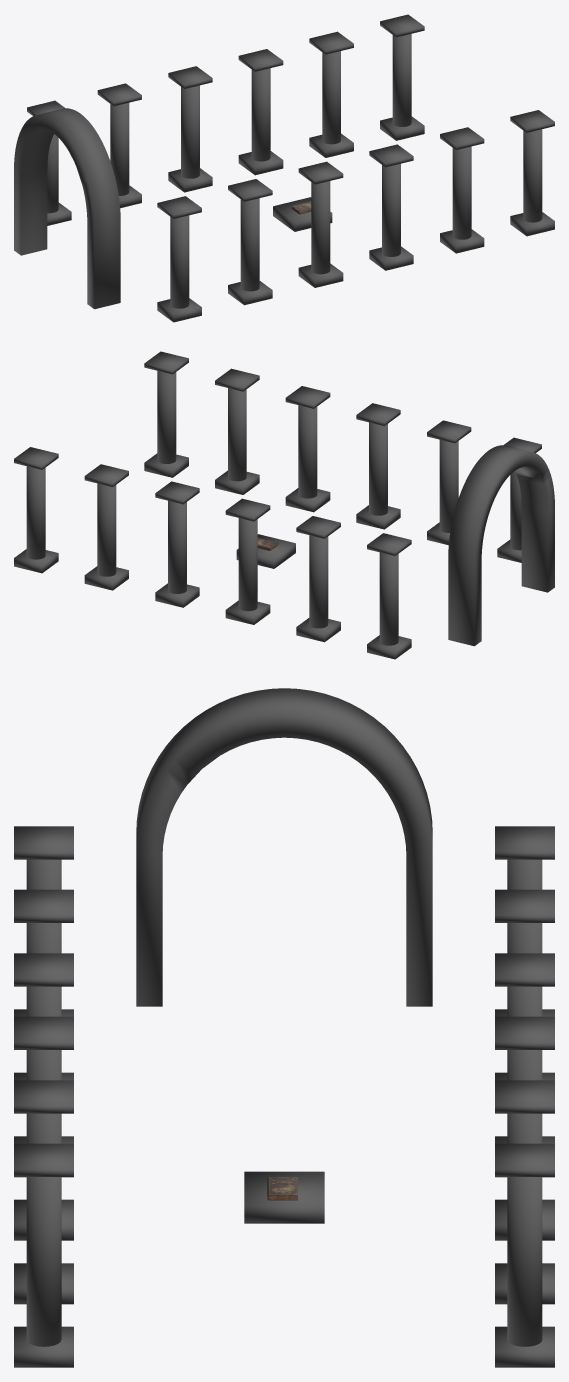
File: home_page.glb
3 views of the same model, one above another, from view 1: azimuth 30°, elevation 25°; view 2: azimuth 150°, elevation 25°; view 3: azimuth 270°, elevation 25° (orthographic). The views are drawn at different scales.
Parts seen in each view (by area): view 1: Cube.003; view 2: Cube.003; view 3: Cube.003.
Part boxes in pixels (box(x1,y1,x2,y2)): Cube.003: box(14, 14, 554, 322); Cube.003: box(14, 351, 554, 659); Cube.003: box(14, 688, 554, 1367).
Bounding box in the file's own units: 22.7 × 8.12 × 13.5.
Materials: 2 (1 with a texture image).
